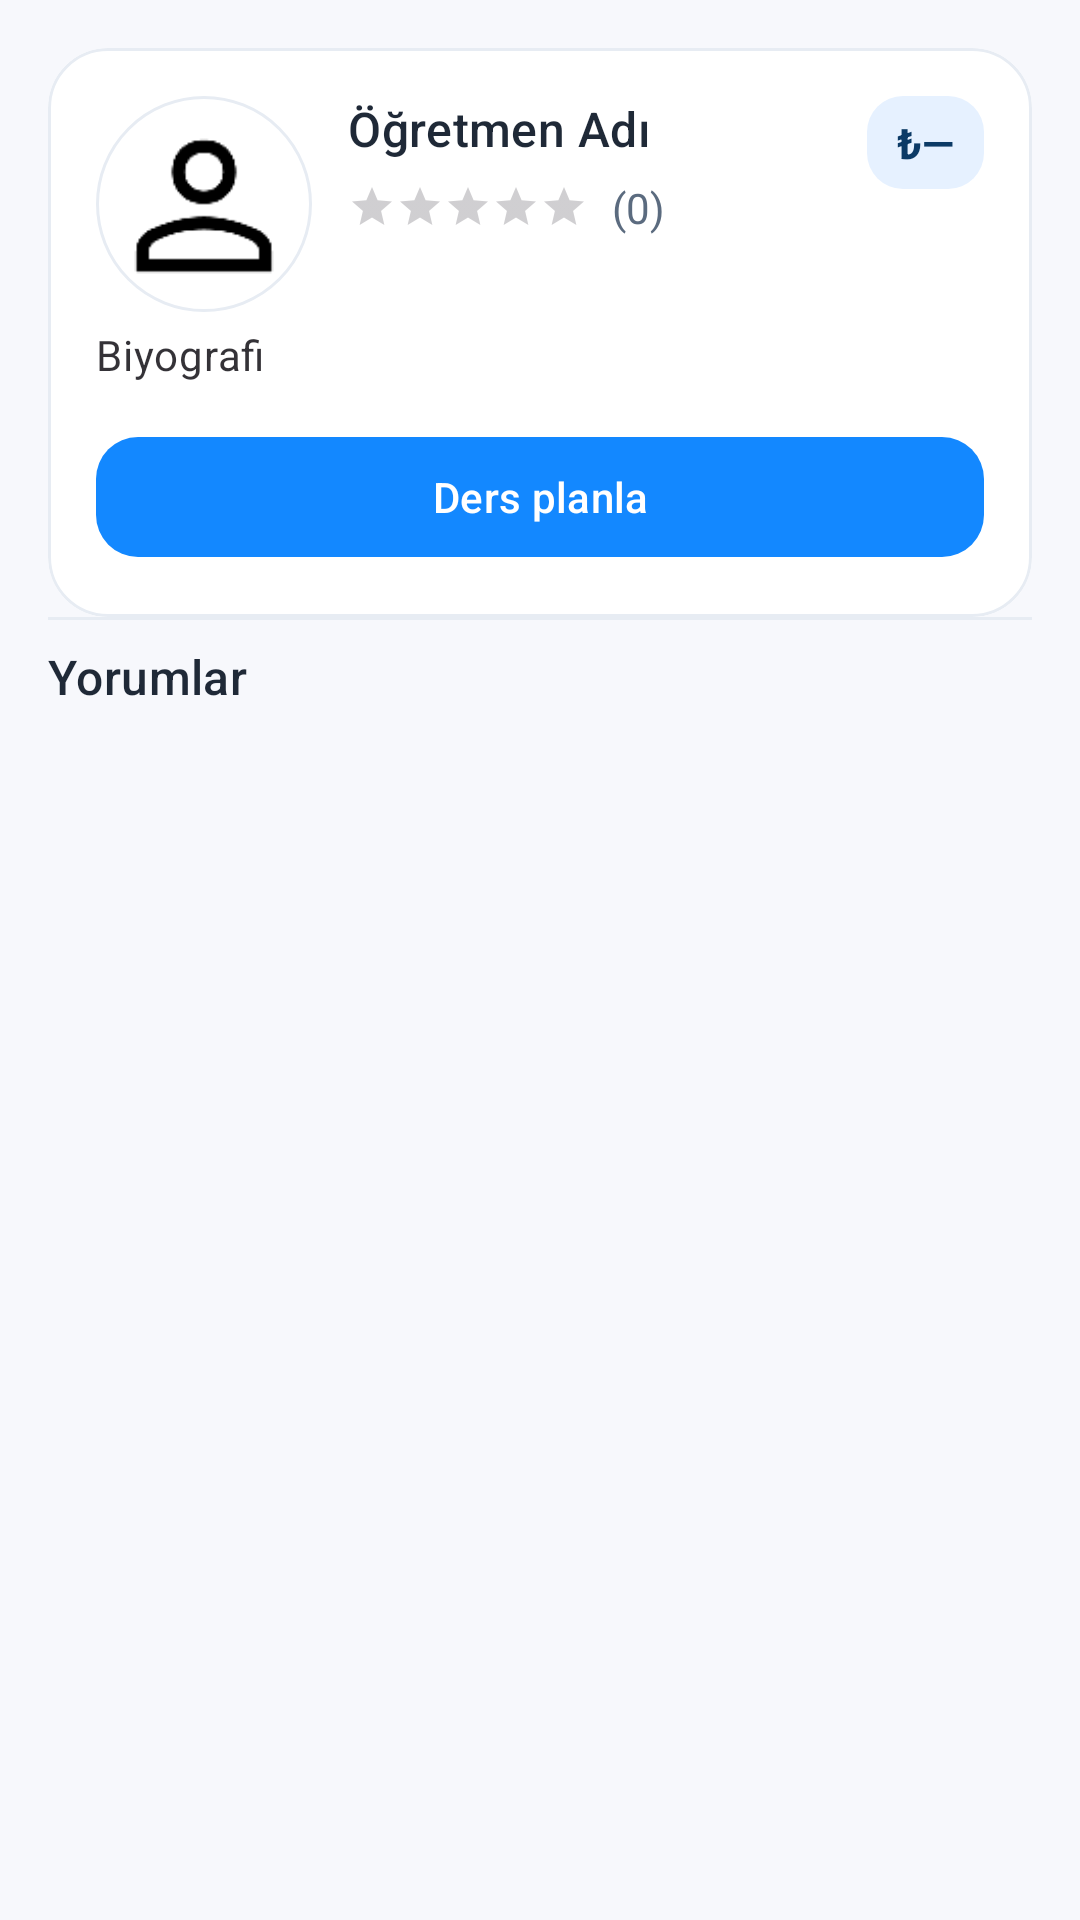

Icons on this 1080×1920 Android screen, each with its box as (x1, y1, x2, y2):
person: (135, 139, 273, 273)
